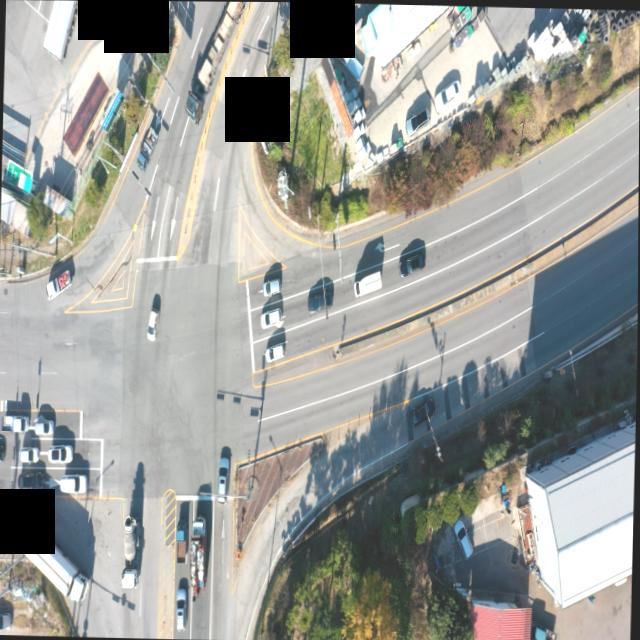car: (453, 517, 473, 559), (434, 81, 458, 113), (411, 396, 435, 423), (306, 286, 333, 310), (407, 106, 429, 135), (400, 250, 426, 274), (59, 473, 85, 494), (216, 454, 227, 502), (21, 470, 47, 490), (146, 298, 158, 340), (261, 306, 283, 328), (48, 443, 72, 462), (175, 587, 186, 628), (266, 341, 286, 362), (264, 275, 283, 295), (32, 418, 53, 434), (19, 446, 39, 462), (0, 611, 11, 631), (0, 438, 4, 459)
large_truck: (183, 1, 240, 126)
medium_truck: (17, 522, 88, 615), (43, 0, 79, 58), (123, 515, 143, 589), (189, 520, 204, 590)
small_truck: (337, 41, 364, 82), (135, 124, 158, 168), (352, 265, 382, 298), (45, 267, 72, 299), (1, 413, 27, 431), (175, 521, 186, 562), (534, 624, 558, 640)
